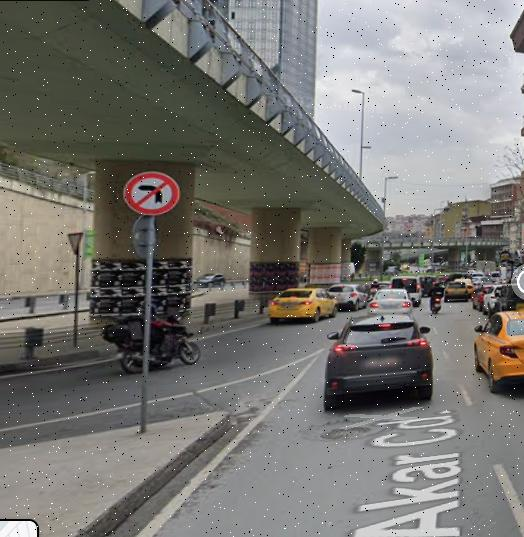leftturnsareforbidden: (122, 170, 183, 216)
